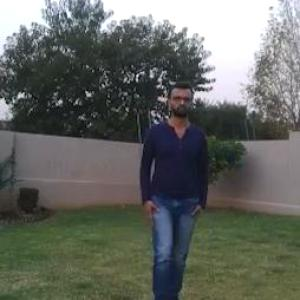follow: (137, 80, 206, 299)
